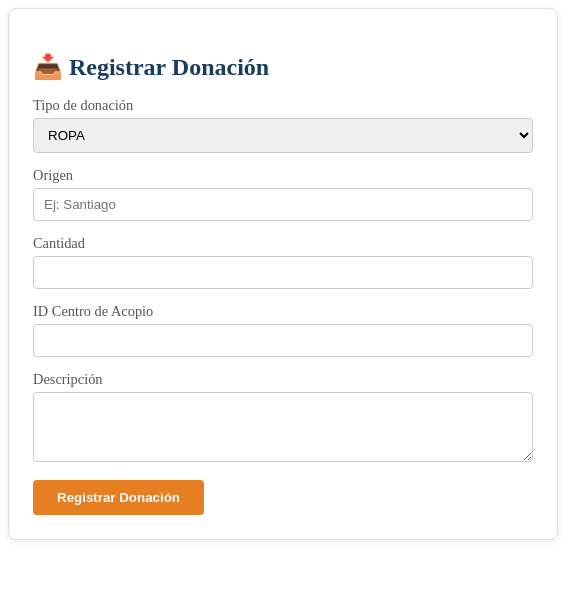
DonacionForm › muestra mensaje de error cuando la API rechaza la solicitud
Type "Santiago" into the field with placeholder "Ej: Santiago".
click(283, 204); type("Santiago")  # box [33,188,533,221]
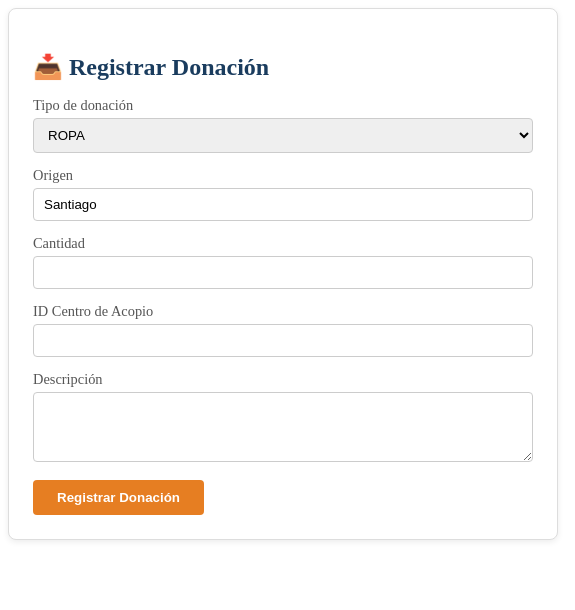
Type "15" into the number field below "Cantidad".
click(283, 272); type("15")  # box [33,256,533,289]
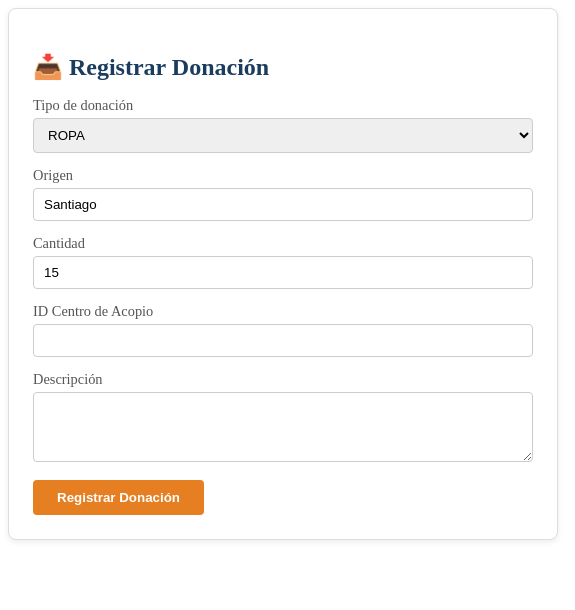
Type "2" into the number field below "ID Centro de Acopio".
click(283, 340); type("2")  # box [33,324,533,357]
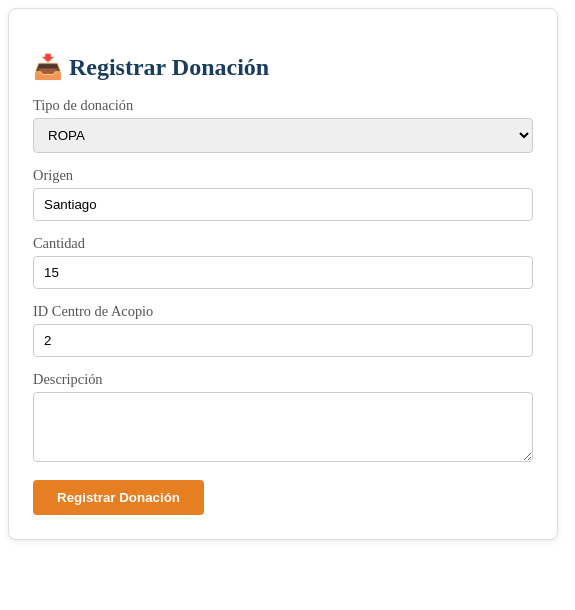
Click the button "Registrar Donación".
click(118, 497)  # box [33,480,204,515]
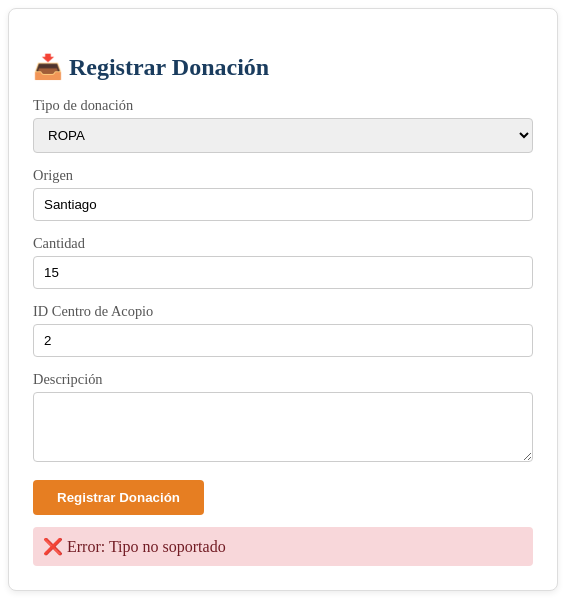
Now the text "❌ Error: Tipo no soportado" is shown, box [33,527,533,566]
